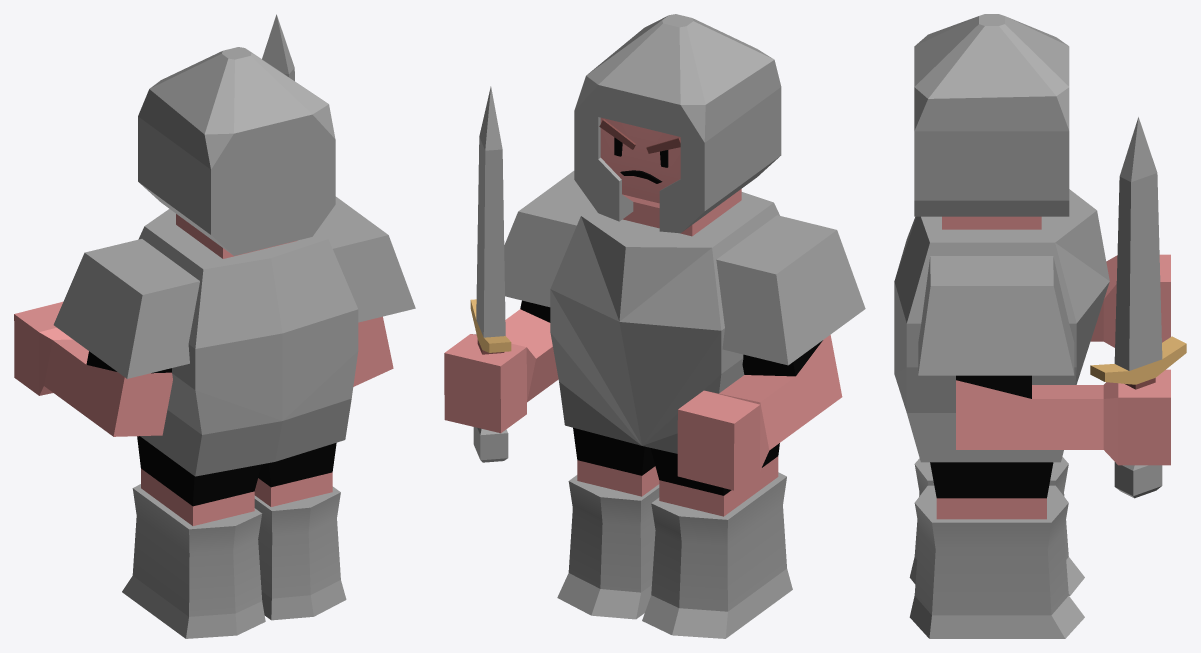
File: GEO_CH_Main.fbx
3 renders of one model, left to right at view 1: azimuth 30°, elevation 25°; view 2: azimuth 150°, elevation 25°; view 3: azimuth 270°, elevation 25°, orthographic. The views are drawn at different scales.
Parts seen in each view (by area): view 1: GEO_Armor_01, GEO_CH_Hands_01, GEO_CH_Hat_01, GEO_Boots_01, GEO_CH_Body_01, GEO_Sword_01; view 2: GEO_CH_Hands_01, GEO_Armor_01, GEO_CH_Hat_01, GEO_Boots_01, GEO_CH_Body_01, GEO_Sword_01, GEO_CH_Face_03; view 3: GEO_CH_Hands_01, GEO_CH_Hat_01, GEO_Boots_01, GEO_Armor_01, GEO_Sword_01, GEO_CH_Body_01.
Part boxes in pixels (<box>): GEO_Armor_01: <box>138,209,358,476</box>; GEO_CH_Hands_01: <box>14,196,415,436</box>; GEO_CH_Hat_01: <box>138,47,335,255</box>; GEO_Boots_01: <box>122,484,346,638</box>; GEO_CH_Body_01: <box>137,214,336,525</box>; GEO_Sword_01: <box>262,14,294,80</box>; GEO_CH_Hands_01: <box>444,171,865,490</box>; GEO_Armor_01: <box>550,192,779,453</box>; GEO_CH_Hat_01: <box>574,14,781,233</box>; GEO_Boots_01: <box>557,472,792,638</box>; GEO_CH_Body_01: <box>573,117,779,516</box>; GEO_Sword_01: <box>470,86,511,462</box>; GEO_CH_Face_03: <box>599,119,680,183</box>; GEO_CH_Hands_01: <box>918,254,1170,465</box>; GEO_CH_Hat_01: <box>914,14,1069,216</box>; GEO_Boots_01: <box>909,457,1084,638</box>; GEO_Armor_01: <box>894,189,1109,462</box>; GEO_Sword_01: <box>1090,117,1186,498</box>; GEO_CH_Body_01: <box>930,216,1053,519</box>.
Bounding box in the file's own units: 1.3 × 2.35 × 1.08.
